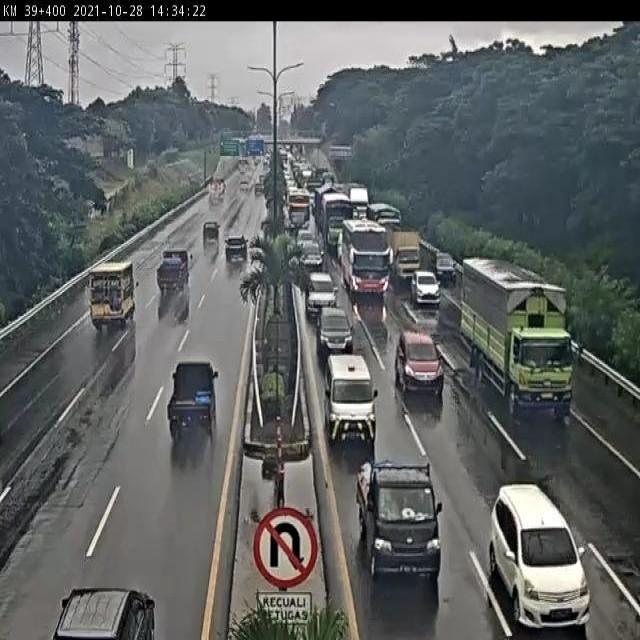big bus: (340, 215, 388, 296), (320, 190, 353, 242), (283, 195, 311, 236)
car: (482, 483, 594, 628), (360, 467, 444, 581), (165, 357, 224, 440), (326, 357, 379, 447), (397, 329, 446, 399), (317, 292, 352, 348), (306, 265, 338, 316), (409, 268, 438, 307), (221, 236, 249, 273), (429, 252, 459, 285), (299, 239, 321, 268), (198, 223, 219, 252), (292, 220, 309, 240)
small truck: (88, 266, 137, 334), (382, 220, 422, 284), (155, 252, 192, 303)
truck-l-: (457, 252, 580, 409)
